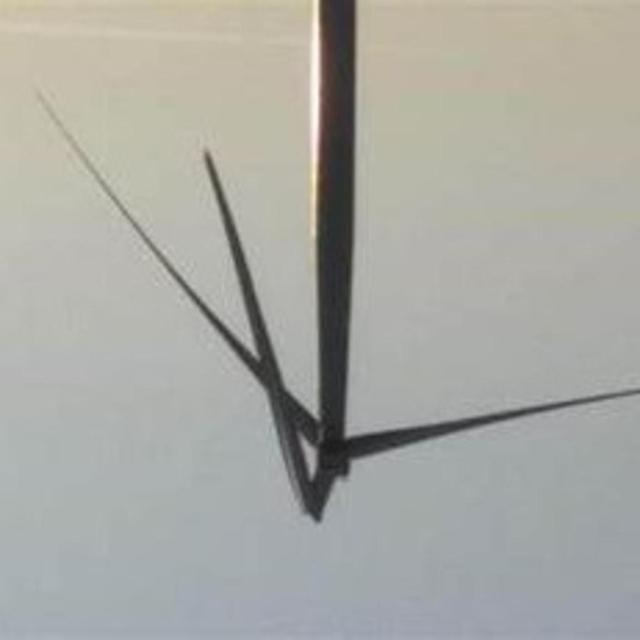crack: (194, 140, 349, 534)
